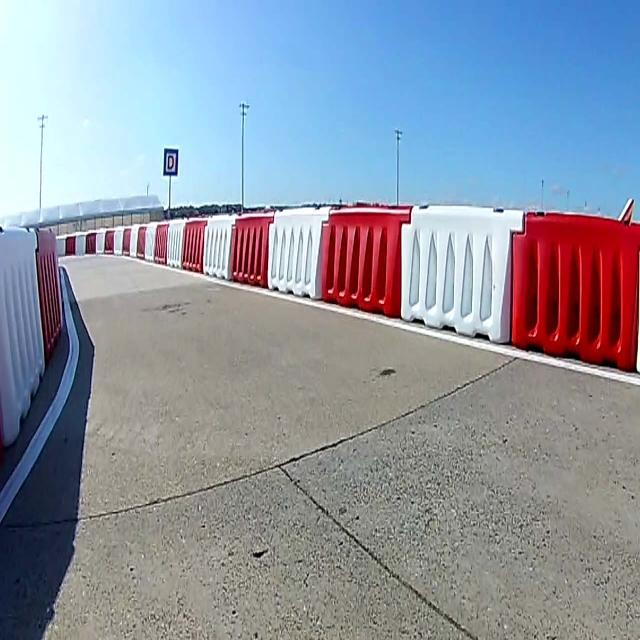durak: (164, 148, 178, 176)
